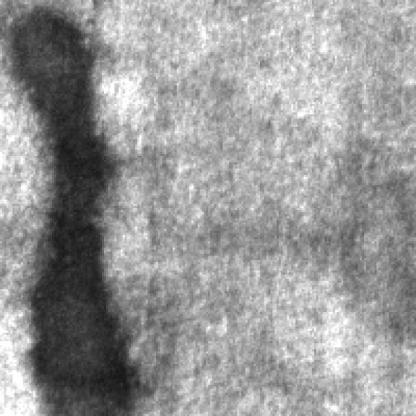patches: (19, 17, 138, 416)
